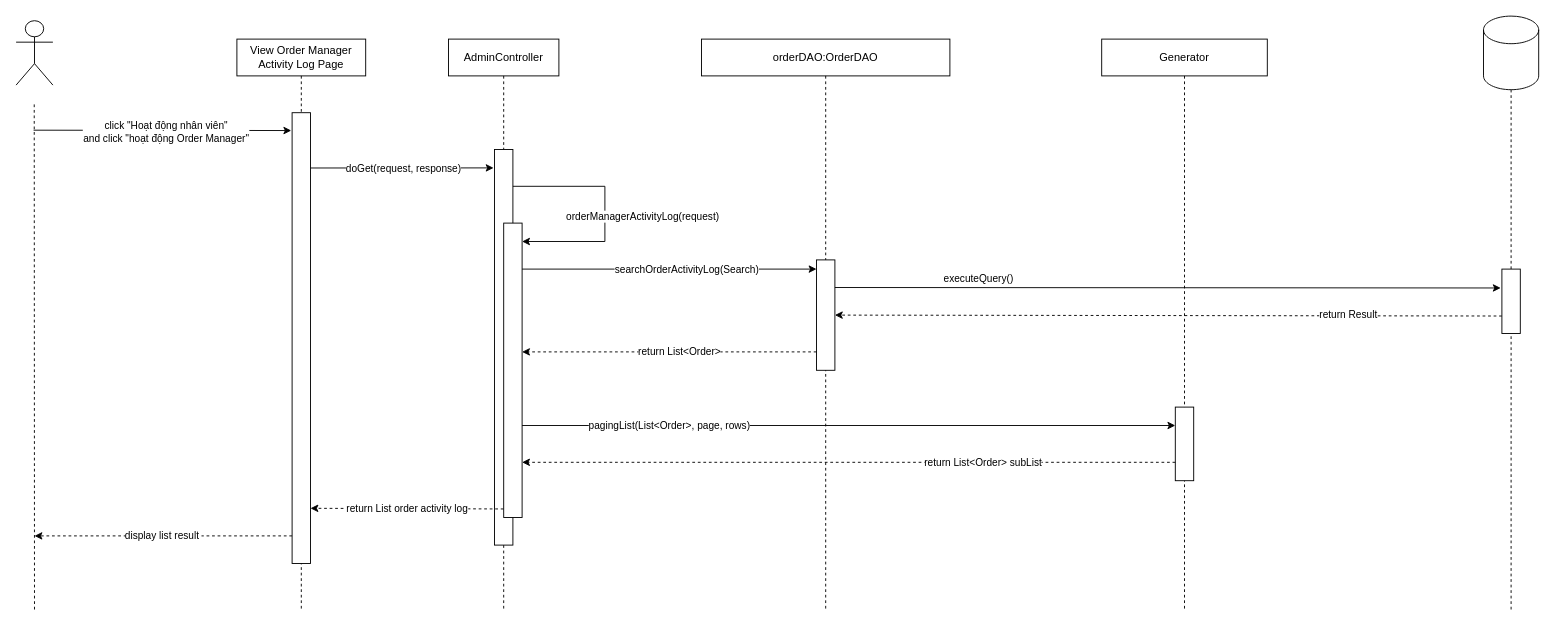
The diagram is 1555 pixels wide and 627 high, and some of its shapes have lost their labels. The centre of each missing label's shape, as x and y in pixels:
"Admin" goes at point 34,52.
"Database" goes at point 1511,52.
